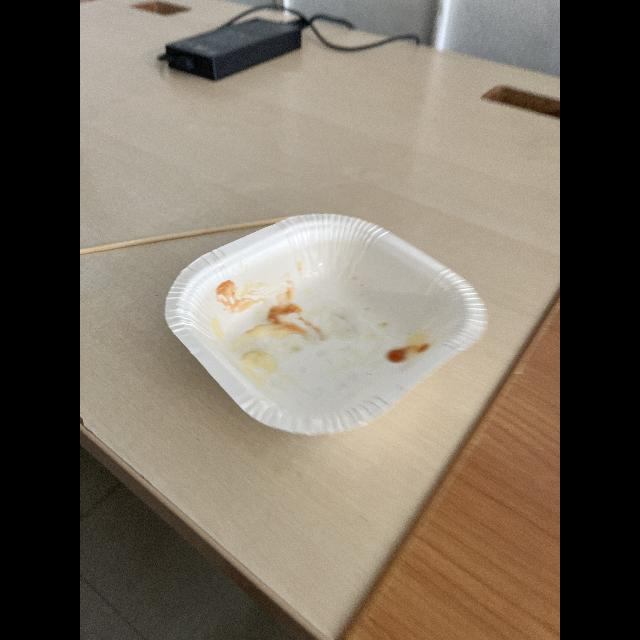cardboard_bowl: (162, 210, 488, 438)
stick: (80, 221, 280, 265)
